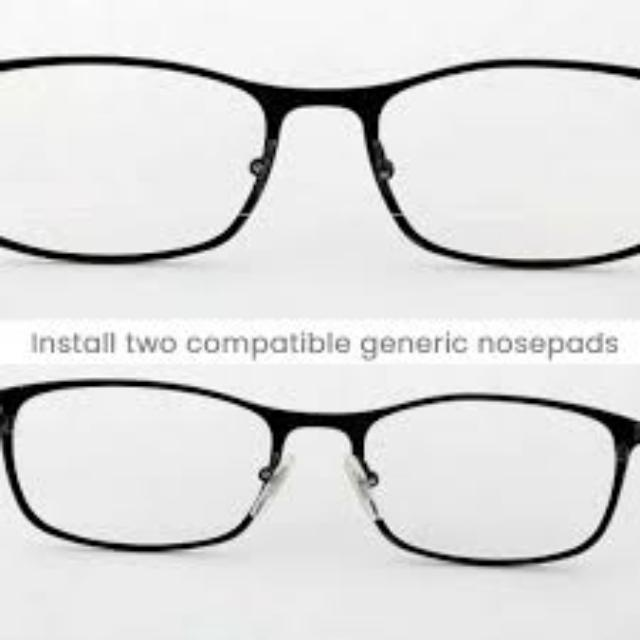glasses: (0, 56, 640, 268), (0, 378, 640, 568)
